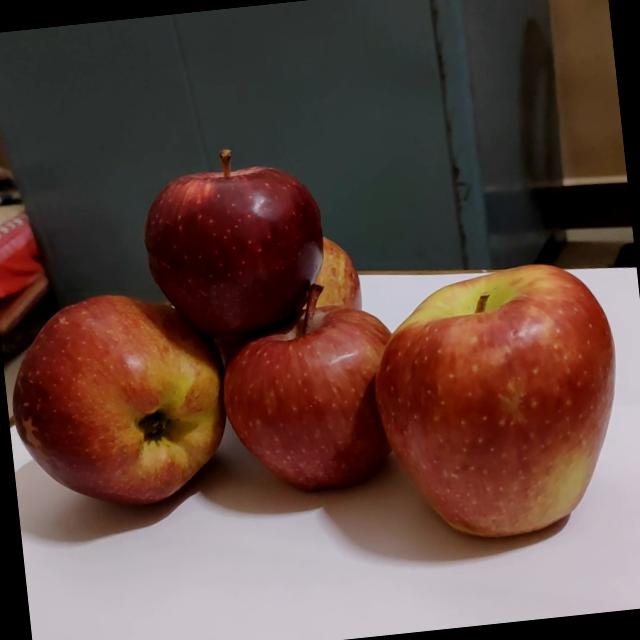apple: (359, 251, 635, 549), (0, 276, 240, 523), (210, 272, 410, 502), (134, 133, 337, 349), (272, 226, 366, 322)
